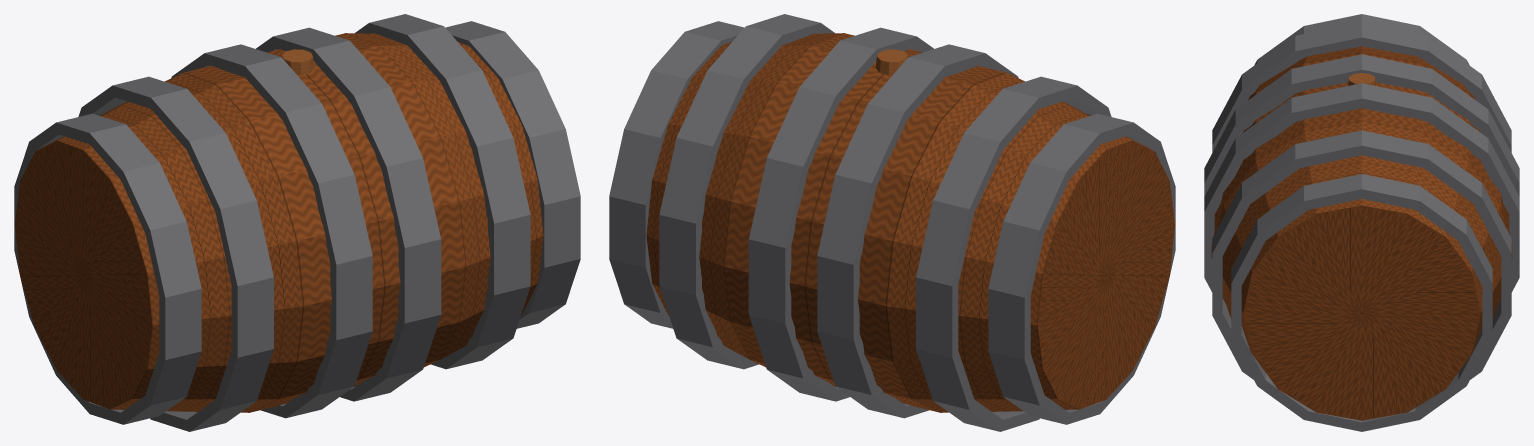
File: distillery-and-bonded-warehouse-cask-barrel-e71f2d00__38690.glb
The picture shows the model from 3 angles, left to right: view 1: azimuth 30°, elevation 25°; view 2: azimuth 150°, elevation 25°; view 3: azimuth 270°, elevation 25°; orthographic projection. The views are drawn at different scales.
Parts seen in each view (by area): view 1: cask-barrel-iron, cask-barrel-oak, cask-barrel-timber; view 2: cask-barrel-iron, cask-barrel-oak, cask-barrel-timber; view 3: cask-barrel-oak, cask-barrel-iron.
Part boxes in pixels (bbox=[...]): cask-barrel-iron: bbox=[14, 14, 580, 431]; cask-barrel-oak: bbox=[15, 33, 543, 412]; cask-barrel-timber: bbox=[281, 49, 314, 75]; cask-barrel-iron: bbox=[609, 14, 1175, 431]; cask-barrel-oak: bbox=[646, 33, 1174, 412]; cask-barrel-timber: bbox=[875, 49, 908, 75]; cask-barrel-oak: bbox=[1211, 46, 1512, 420]; cask-barrel-iron: bbox=[1204, 14, 1519, 431].
Size of the model in its own units: 0.88 by 0.6671 by 0.6504.
Materials: 3 (2 with a texture image).
